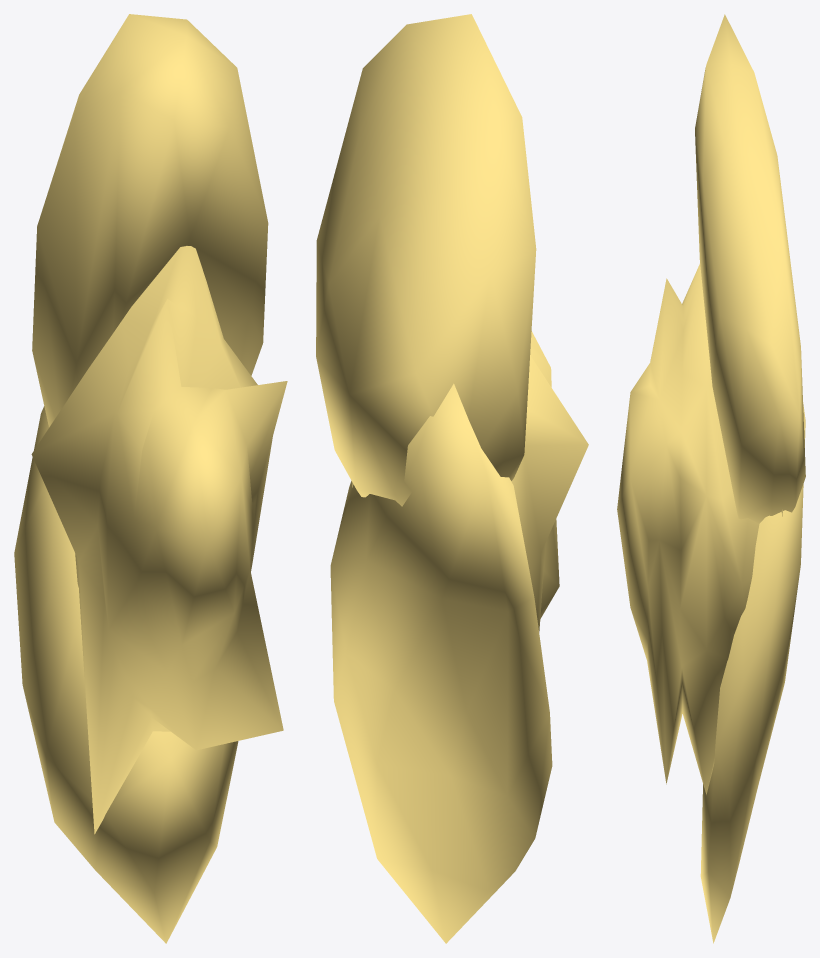
Rendered from item-hal-golden-ear.glb.
3 views of the same model, side by side, from view 1: azimuth 30°, elevation 25°; view 2: azimuth 150°, elevation 25°; view 3: azimuth 270°, elevation 25° (orthographic). The views are drawn at different scales.
Size of the model in its own units: 0.0628 by 0.2242 by 0.0419.
